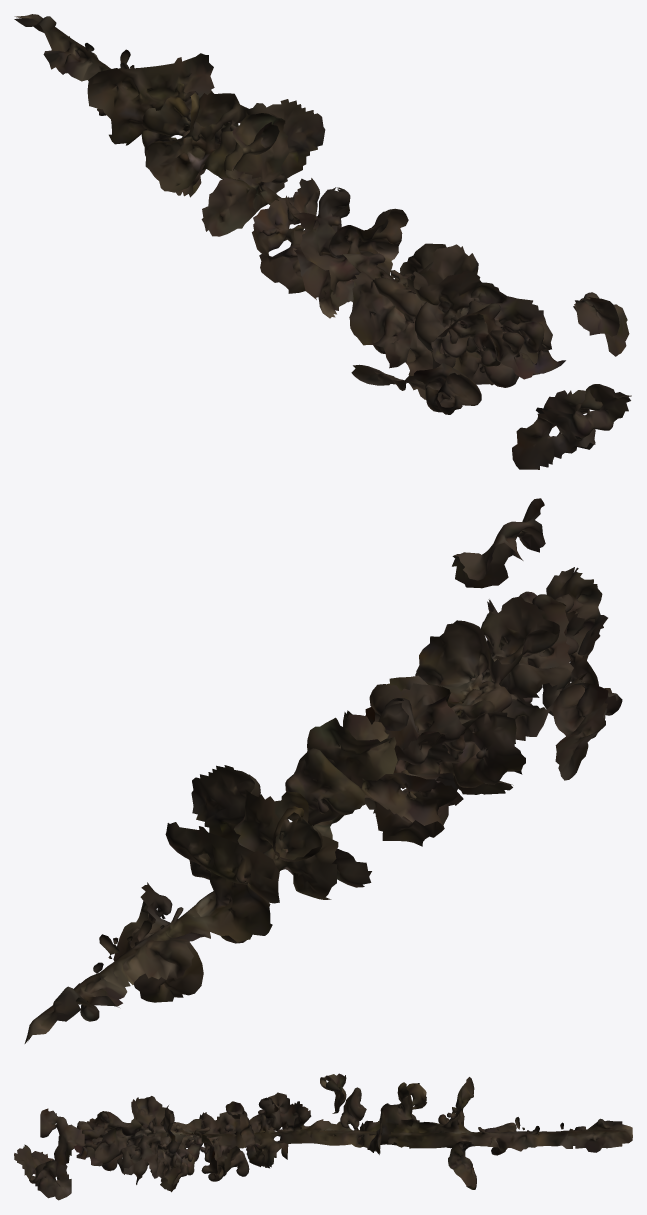
The model's file is tree_mesh.dae.
3 views of the same model, one above another, from view 1: azimuth 30°, elevation 25°; view 2: azimuth 150°, elevation 25°; view 3: azimuth 270°, elevation 25° (orthographic). The views are drawn at different scales.
Visible parts, largest first — view 1: node0; view 2: node0; view 3: node0.
Part boxes in pixels (left/top/right/bottom): node0: left=14, top=14, right=631, bottom=469; node0: left=24, top=498, right=622, bottom=1043; node0: left=14, top=1073, right=632, bottom=1200.
Size of the model in its own units: 5.57 by 5.1 by 26.16.
